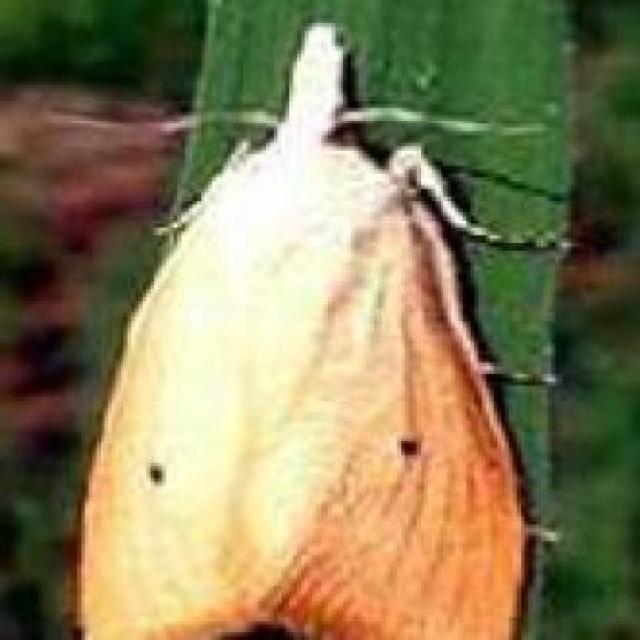stem-borer: (73, 14, 570, 640)
